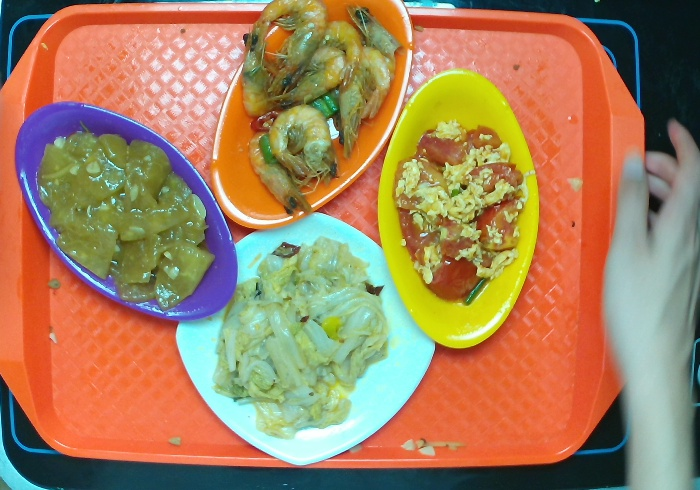RJxy-Fen_Hong_Tuo_Yuan: (11, 91, 254, 328)
RJxy-Huang_Se_Tuo_Yuan: (368, 66, 544, 356)
RJxy-Ju_Huang_Tuo_Yuan: (204, 1, 418, 228)
RJxy-Si_Fang_Die: (168, 214, 435, 469)
